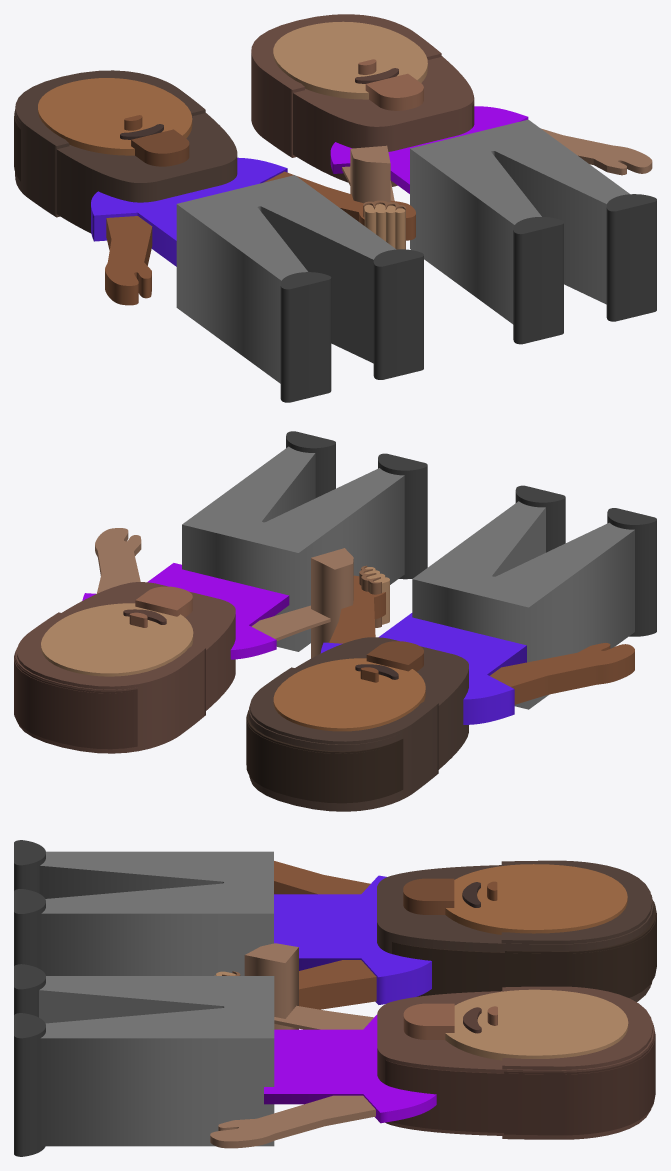
File: emoji_u1f469_1f3fe_200d_1f91d_200d_1f469_1f3fd.glb
3 renders of one model, top to bottom at view 1: azimuth 30°, elevation 25°; view 2: azimuth 150°, elevation 25°; view 3: azimuth 270°, elevation 25°, orthographic. The views are drawn at different scales.
Visible parts, largest first — view 1: emoji_u1f469_1f3fe_200d_1f91d_200d_1f469_1f3fd; view 2: emoji_u1f469_1f3fe_200d_1f91d_200d_1f469_1f3fd; view 3: emoji_u1f469_1f3fe_200d_1f91d_200d_1f469_1f3fd.
Boxes of the visible parts, <box> form: emoji_u1f469_1f3fe_200d_1f91d_200d_1f469_1f3fd: <box>14,14,656,402</box>; emoji_u1f469_1f3fe_200d_1f91d_200d_1f469_1f3fd: <box>14,431,656,811</box>; emoji_u1f469_1f3fe_200d_1f91d_200d_1f469_1f3fd: <box>14,840,656,1156</box>.
Bounding box in the file's own units: 0.0346 × 0.007 × 0.0334.
